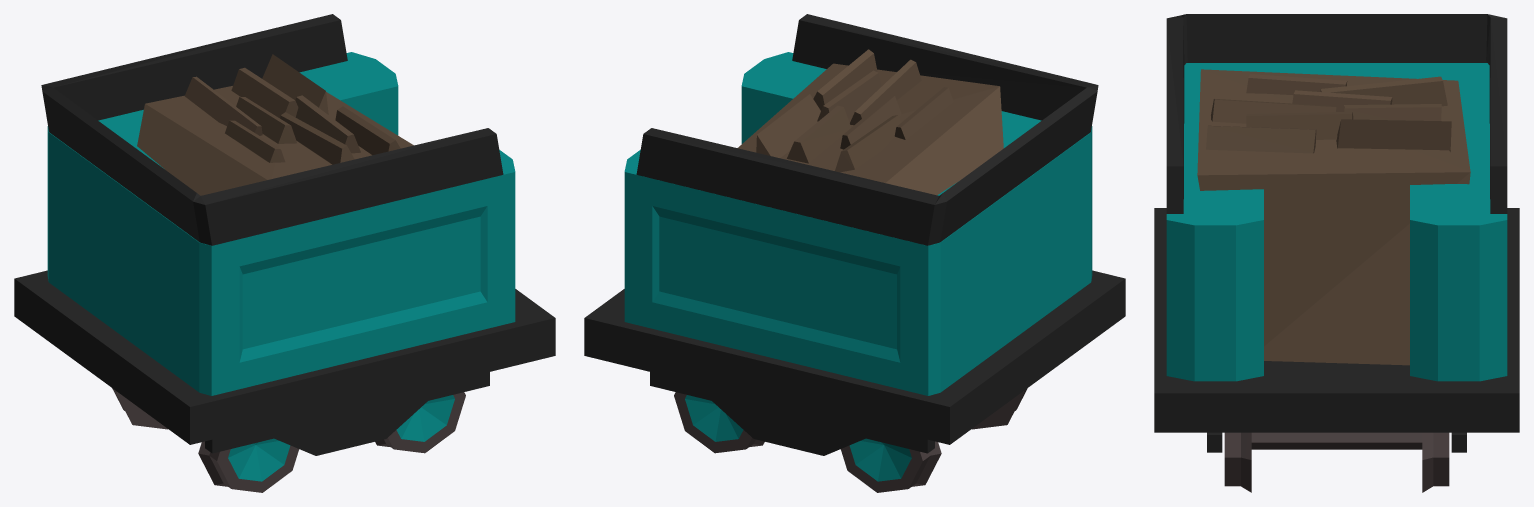
Rendered from rover#002.glb.
The picture shows the model from 3 angles, left to right: view 1: azimuth 30°, elevation 25°; view 2: azimuth 150°, elevation 25°; view 3: azimuth 270°, elevation 25°; orthographic projection. The views are drawn at different scales.
Parts seen in each view (by area): view 1: huitugou_2103_02.001; view 2: huitugou_2103_02.001; view 3: huitugou_2103_02.001.
Boxes of the visible parts, <box> form: huitugou_2103_02.001: <box>14,14,555,492</box>; huitugou_2103_02.001: <box>584,14,1125,492</box>; huitugou_2103_02.001: <box>1154,14,1519,492</box>.
Bounding box in the file's own units: 3.2 × 2.85 × 2.66.
